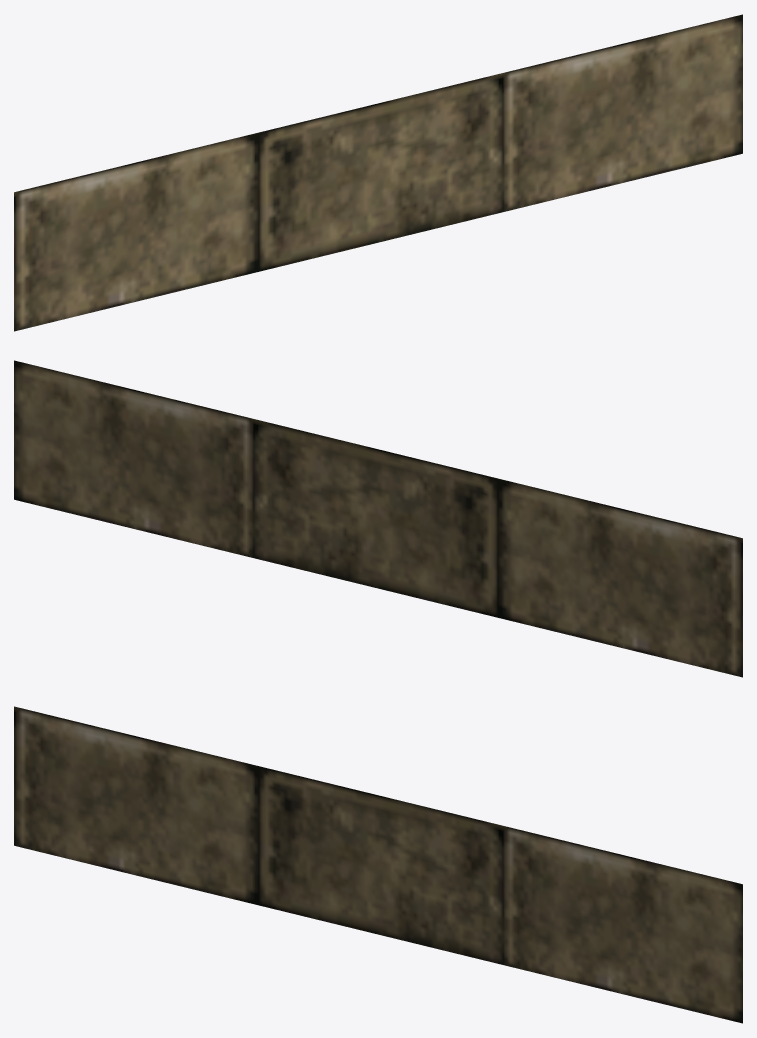
Rendered from OVERHILL_A_01_OBJECT98.fbx.
3 renders of one model, top to bottom at view 1: azimuth 30°, elevation 25°; view 2: azimuth 150°, elevation 25°; view 3: azimuth 330°, elevation 25°, orthographic.
Parts seen in each view (by area): view 1: OVERHILL_A_01_OBJECT98; view 2: OVERHILL_A_01_OBJECT98; view 3: OVERHILL_A_01_OBJECT98.
Part boxes in pixels (left/top/right/bottom): OVERHILL_A_01_OBJECT98: left=14, top=14, right=742, bottom=331; OVERHILL_A_01_OBJECT98: left=14, top=360, right=742, bottom=677; OVERHILL_A_01_OBJECT98: left=14, top=706, right=742, bottom=1023.
Size of the model in its own units: 42015 by 7671 by 0.00125.
1 material, 1 textured.
